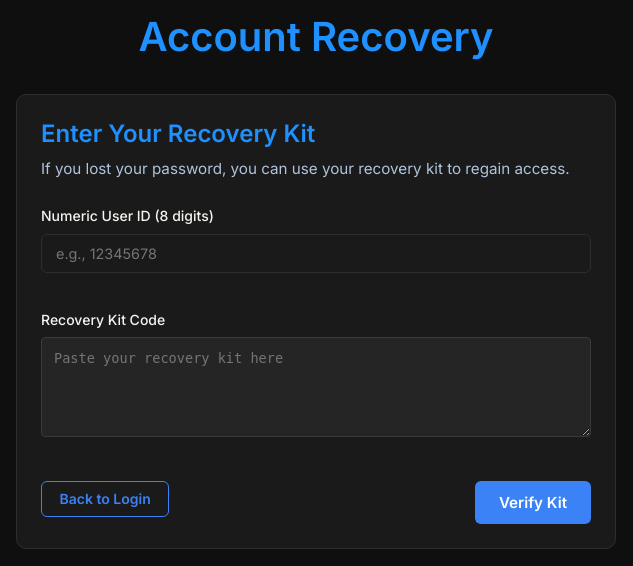
Test: recover.jsx — Account Recovery Page › set-password step — validation › shows error when password is empty
Type "12345678" into the field with placeholder "e.g., 12345678" at (316, 253), box [41, 234, 591, 273]
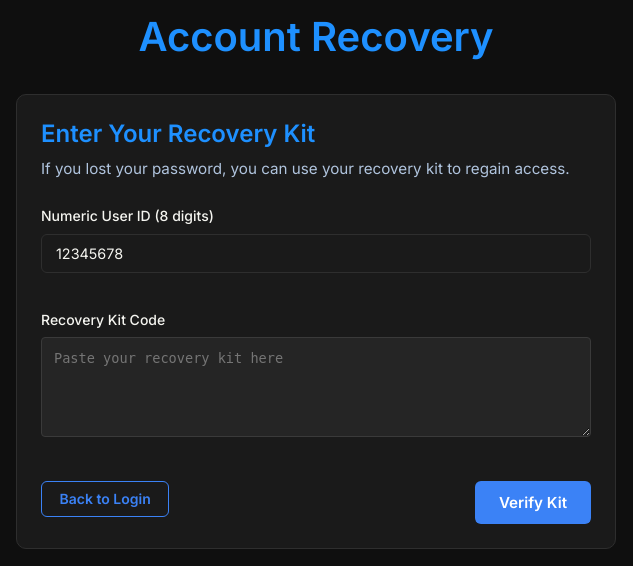
Type "ABCD-EFGH-1234-5678" into the text box with placeholder "Paste your recovery kit here" at (316, 387), box [41, 337, 591, 437]
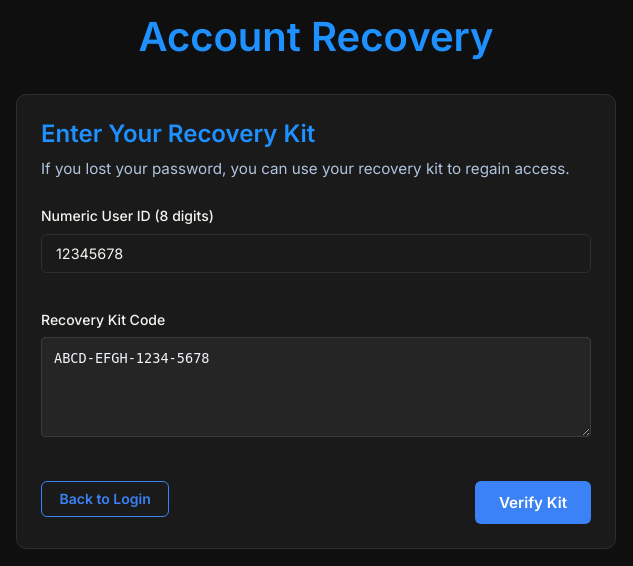
Click the button "Verify Kit" at (533, 502), box [475, 481, 591, 524]
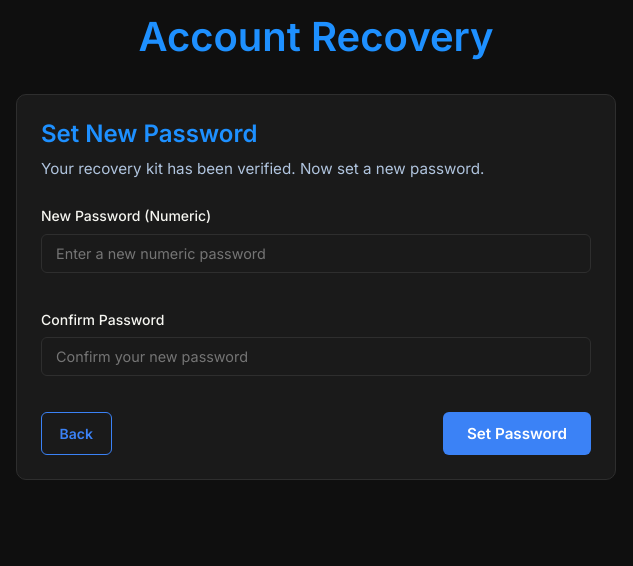
Type "123456" into the password field with placeholder "Confirm your new password" at (316, 357), box [41, 337, 591, 376]
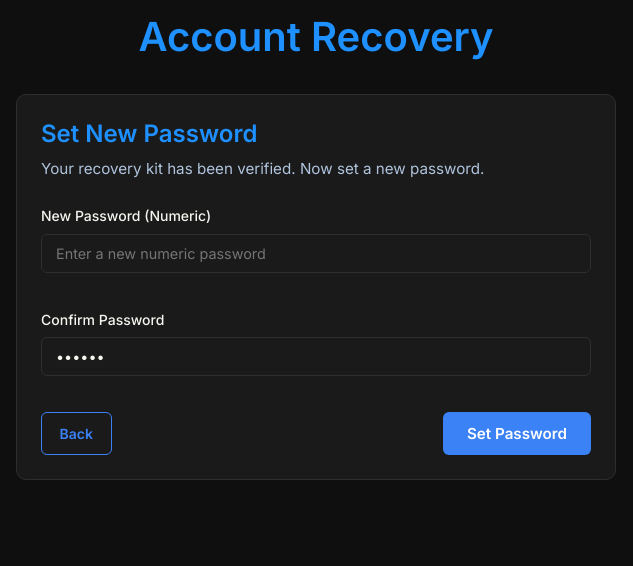
Click the button "Set Password" at (517, 434), box [443, 412, 591, 455]
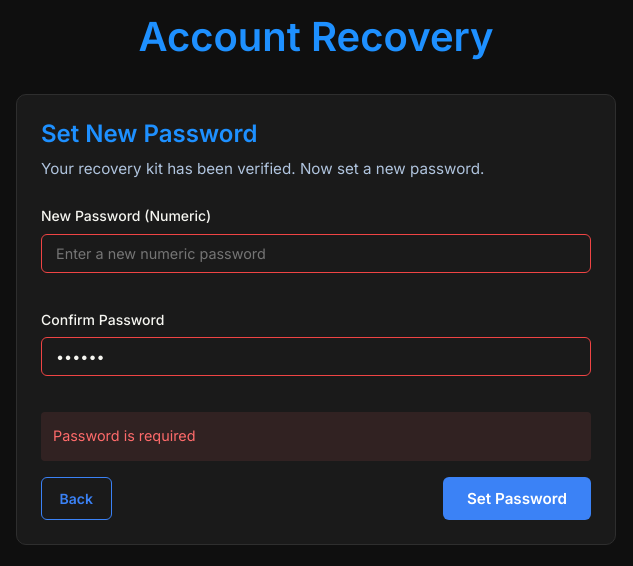
expect the text "Password is required" is shown: met, box [41, 412, 591, 461]
